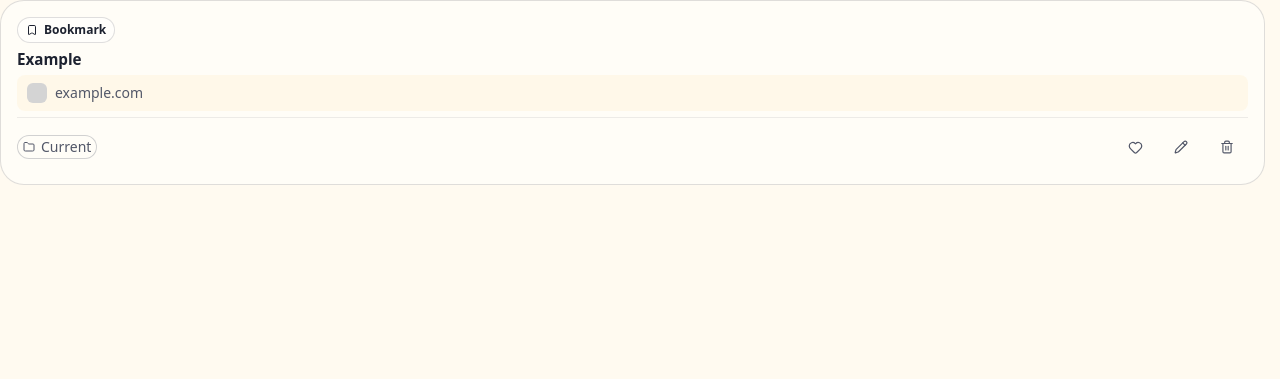
BookmarkCard › restores the previous collection when a move fails
Click the button "Current" at (57, 147), box top-left (17, 135), bottom-right (97, 159)
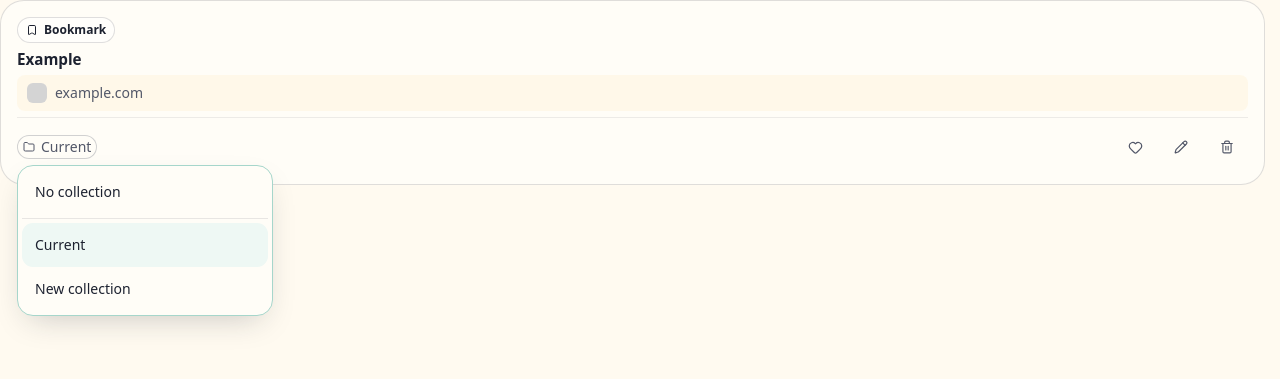
Click the menu item "New collection" at (145, 289), box top-left (22, 267), bottom-right (268, 311)
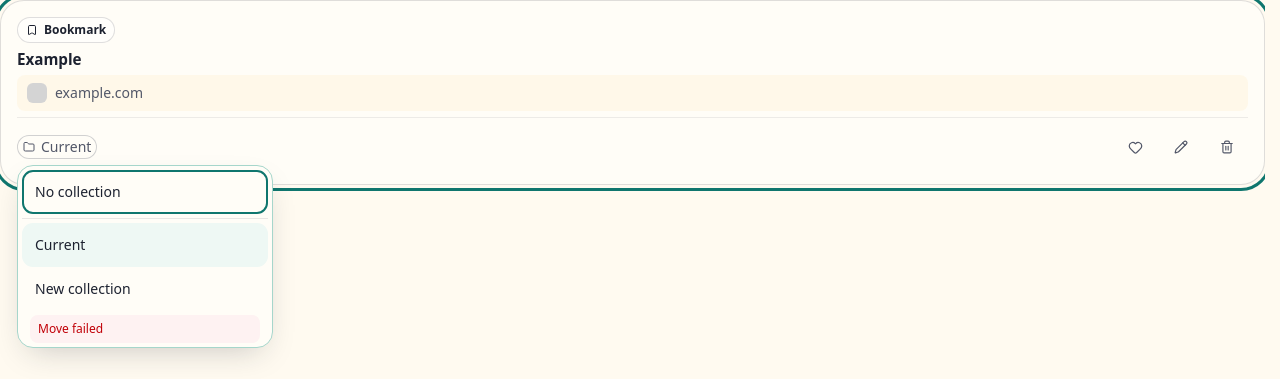
Expected: the text "Current" is shown, top-left (41, 137), bottom-right (91, 157)
Now the text "Move failed" is shown, box top-left (30, 315), bottom-right (260, 343)
